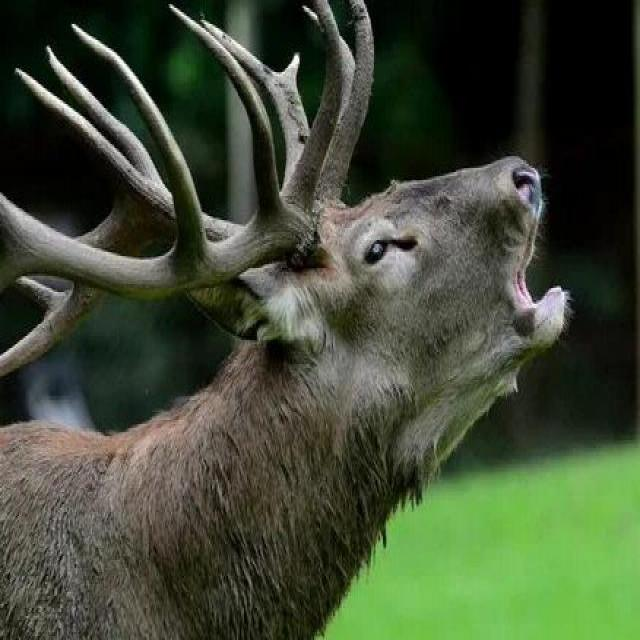deer: (31, 1, 598, 640)
